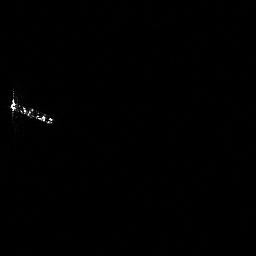ship: (10, 88, 55, 124)
